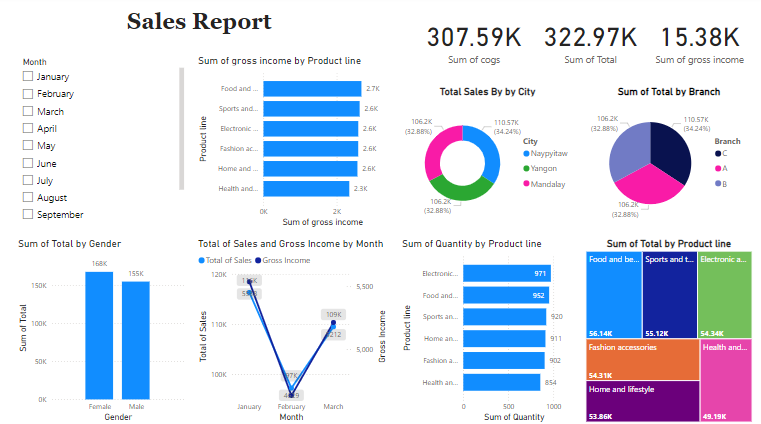

This screenshot's page, from the dashboard's own definition file:
{"tool":"powerbi","page":{"name":"Page 1","canvas":[1280,720],"ordinal":0},"visuals":[{"type":"card","fields":{"Values":["Sum(supermarket_sales.gross income)"]},"box":[1093.5,15.1,162.9,117.6],"z":0},{"type":"card","fields":{"Values":["Sum(supermarket_sales.Total)"]},"box":[890.3,15.1,203.3,117.6],"z":1000},{"type":"card","fields":{"Values":["Sum(supermarket_sales.cogs)"]},"box":[702.2,15.1,188.1,117.6],"z":2000},{"type":"pieChart","fields":{"Category":["supermarket_sales.Branch"],"Y":["Sum(supermarket_sales.Total)"]},"box":[979.3,149.5,288.9,243.6],"z":3000},{"type":"donutChart","fields":{"Y":["Sum(supermarket_sales.Total)"],"Category":["supermarket_sales.City"]},"box":[670.2,149.5,297.3,243.6],"z":4000},{"type":"treemap","fields":{"Group":["supermarket_sales.Product line"],"Values":["Sum(supermarket_sales.Total)"]},"box":[979.3,404.8,288.9,315.8],"z":5000},{"type":"clusteredColumnChart","fields":{"Category":["supermarket_sales.Gender"],"Y":["Sum(supermarket_sales.Total)"]},"box":[25.2,404.8,288.9,315.8],"z":6000},{"type":"slicer","fields":{"Values":["supermarket_sales.Date.Variation.Date Hierarchy.Month"]},"box":[25.2,97.4,288.9,295.6],"z":8001},{"type":"lineChart","fields":{"Category":["supermarket_sales.Date.Variation.Date Hierarchy.Month"],"Y":["Sum(supermarket_sales.Total)"],"Y2":["Sum(supermarket_sales.gross income)"]},"box":[327.6,404.8,325.9,315.8],"z":8002},{"type":"clusteredBarChart","fields":{"Category":["supermarket_sales.Product line"],"Y":["Sum(supermarket_sales.gross income)"]},"box":[327.6,97.4,325.9,295.6],"z":8003},{"type":"clusteredBarChart","fields":{"Category":["supermarket_sales.Product line"],"Y":["Sum(supermarket_sales.Quantity)"]},"box":[670.2,404.8,297.3,315.8],"z":8004},{"type":"textbox","box":[25.2,15.1,628.2,60.5],"z":8005}]}

Visuals, with their boxes in screenshot pixels (x1, y1, x2, y2), scaled from the page's 1280x720 canvas onto the 761x424 screenshot:
card - Sum(supermarket_sales.gross income): [left=650, top=9, right=747, bottom=78]
card - Sum(supermarket_sales.Total): [left=529, top=9, right=650, bottom=78]
card - Sum(supermarket_sales.cogs): [left=417, top=9, right=529, bottom=78]
pieChart - supermarket_sales.Branch x Sum(supermarket_sales.Total): [left=582, top=88, right=754, bottom=231]
donutChart - Sum(supermarket_sales.Total) x supermarket_sales.City: [left=398, top=88, right=575, bottom=231]
treemap - supermarket_sales.Product line x Sum(supermarket_sales.Total): [left=582, top=238, right=754, bottom=423]
clusteredColumnChart - supermarket_sales.Gender x Sum(supermarket_sales.Total): [left=15, top=238, right=187, bottom=423]
slicer - supermarket_sales.Date.Variation.Date Hierarchy.Month: [left=15, top=57, right=187, bottom=231]
lineChart - supermarket_sales.Date.Variation.Date Hierarchy.Month x Sum(supermarket_sales.Total): [left=195, top=238, right=389, bottom=423]
clusteredBarChart - supermarket_sales.Product line x Sum(supermarket_sales.gross income): [left=195, top=57, right=389, bottom=231]
clusteredBarChart - supermarket_sales.Product line x Sum(supermarket_sales.Quantity): [left=398, top=238, right=575, bottom=423]
textbox: [left=15, top=9, right=388, bottom=45]
